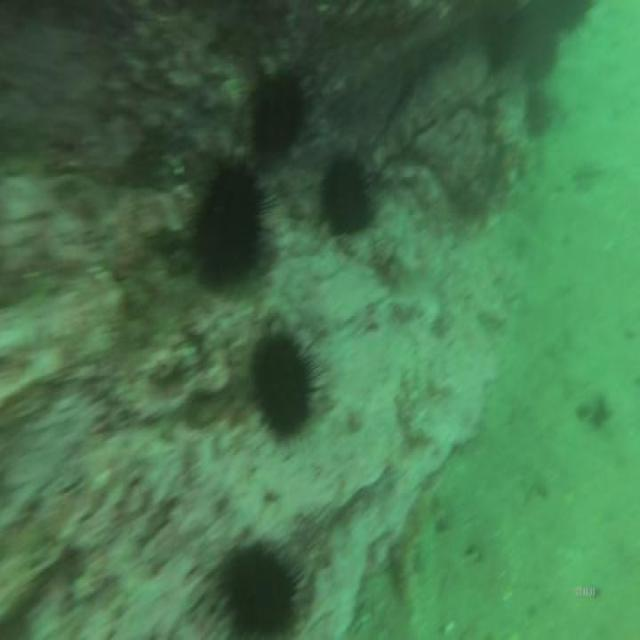echinus: (198, 148, 276, 290), (242, 313, 322, 449), (219, 528, 311, 640), (244, 62, 313, 174), (318, 147, 377, 237)
